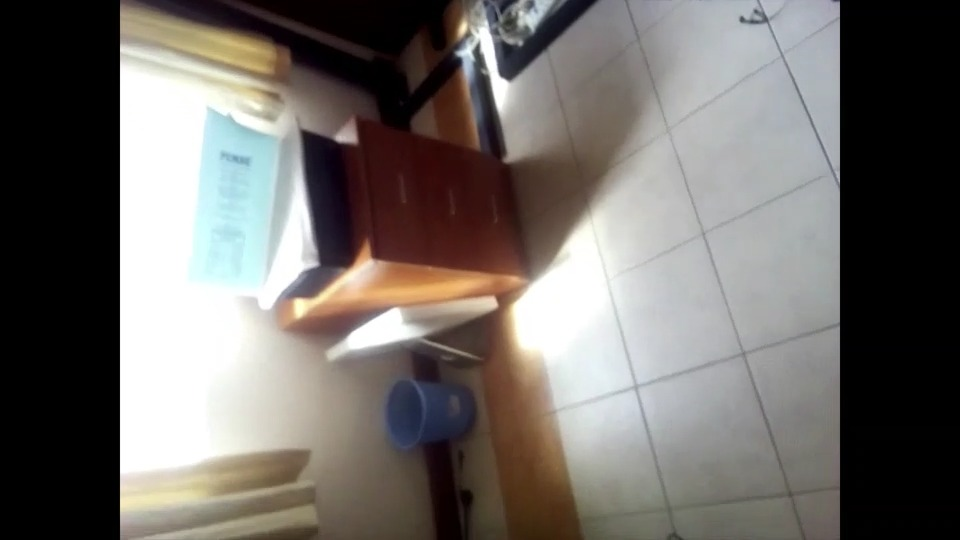wheat_flour_blue_label: (180, 104, 281, 321)
